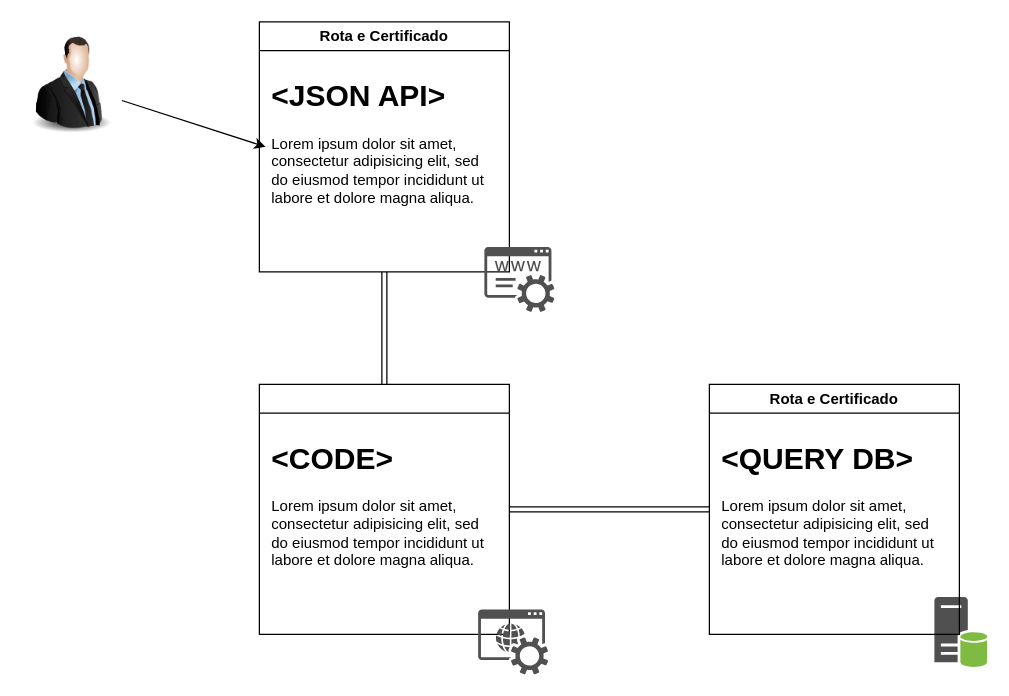
The diagram is 1009 pixels wide and 696 high, and some of its shapes have lost their labels. Here are the shapes that lost their labels. From the top down, the box of each, then its label:
(21, 34, 121, 134): Desenvolvedor
(258, 383, 509, 634): Aplicação do desenvolvedor
